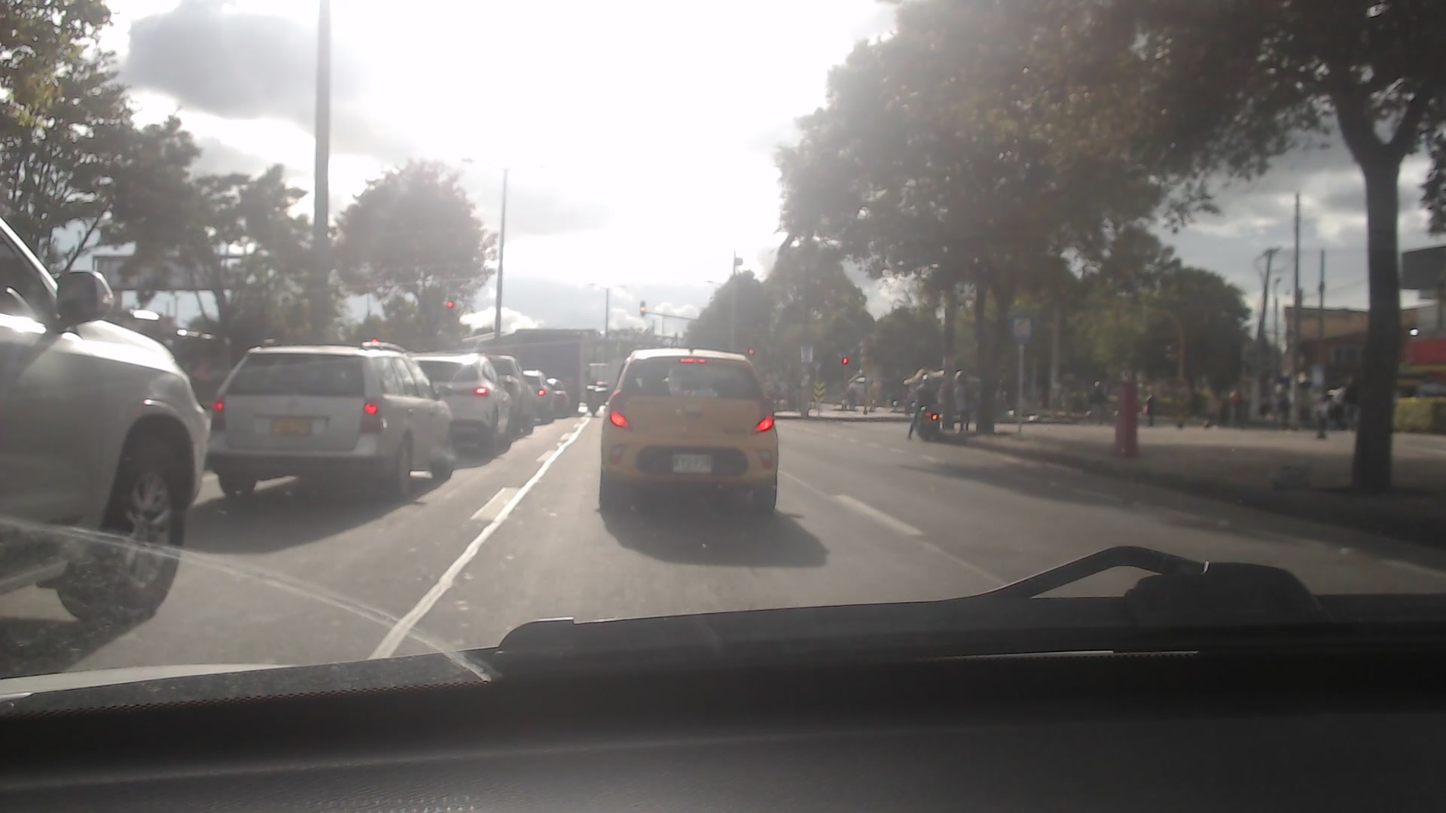car: (210, 339, 464, 484), (595, 350, 782, 508), (401, 346, 526, 456), (487, 352, 548, 437)
